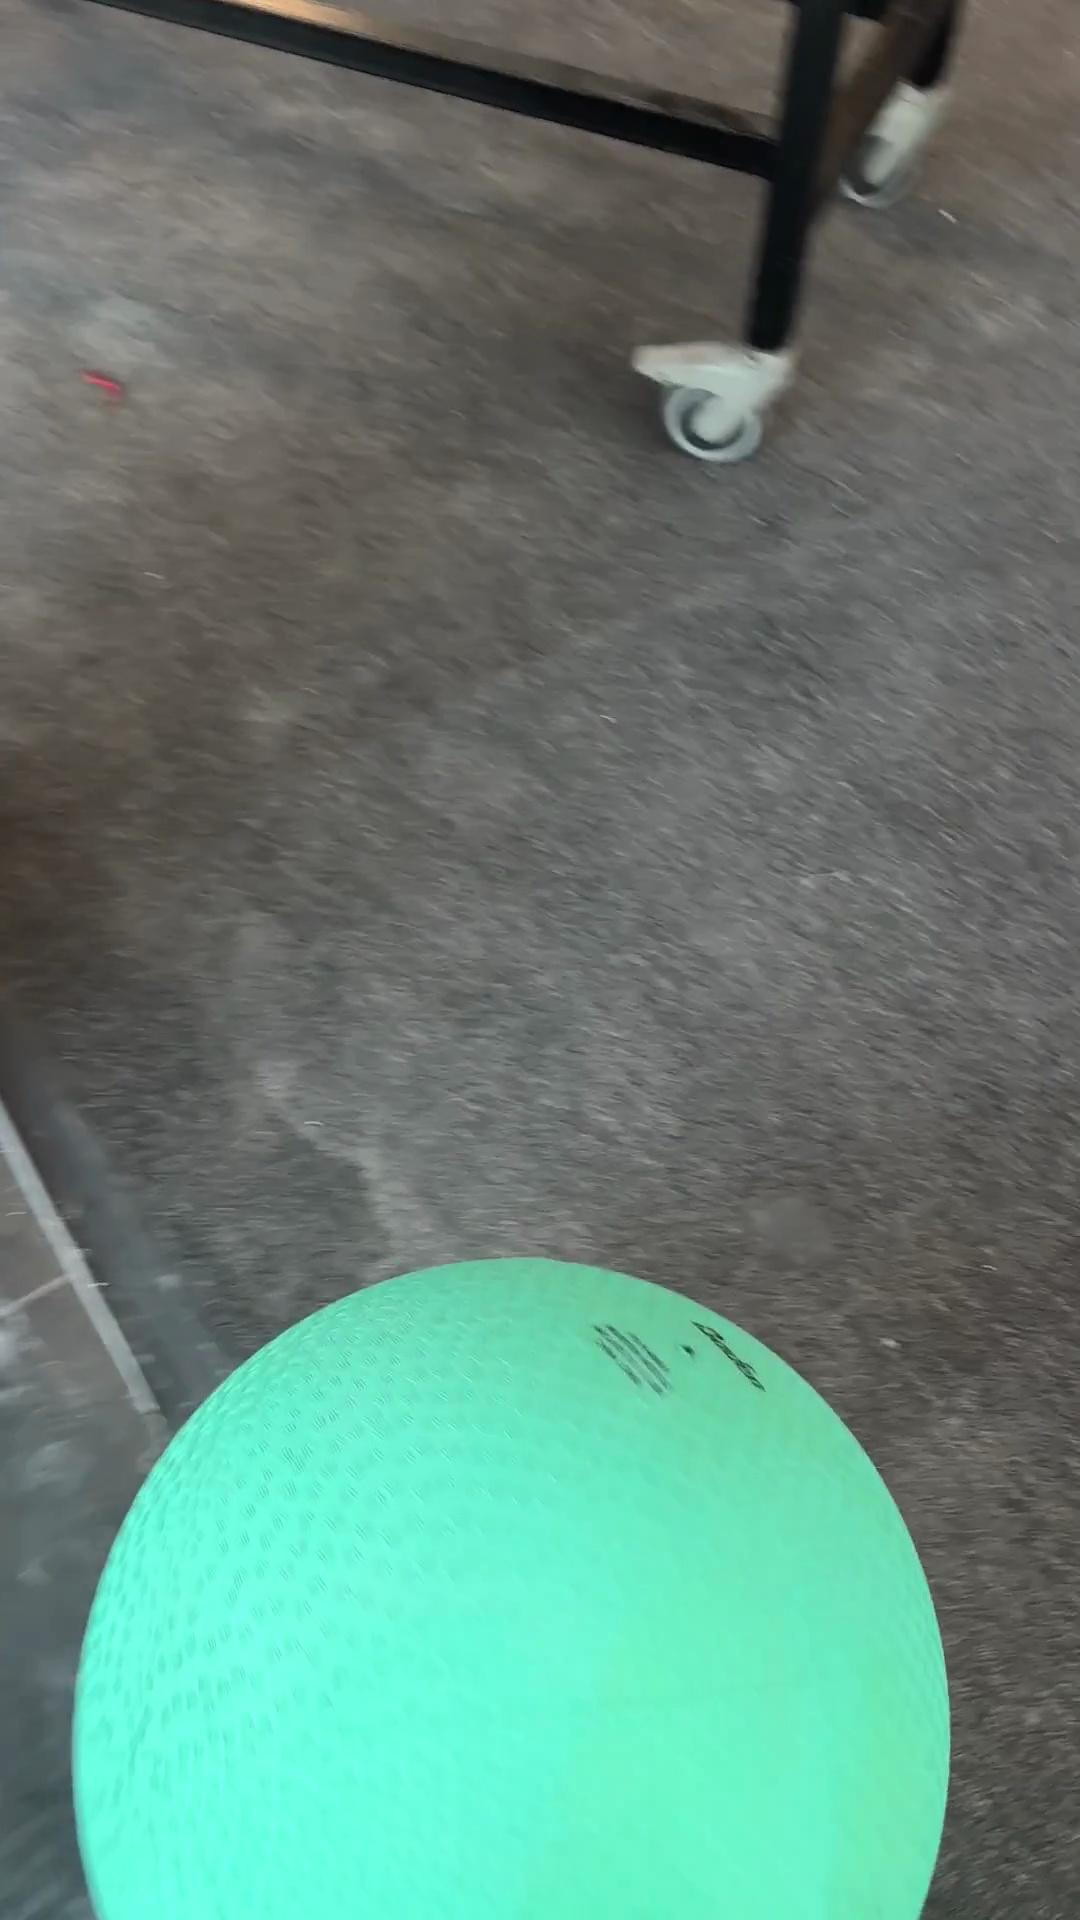ALGAE: (69, 1251, 953, 1916)
